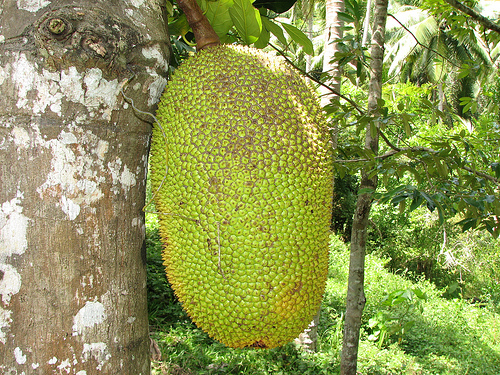jackfruit: (148, 26, 341, 353)
